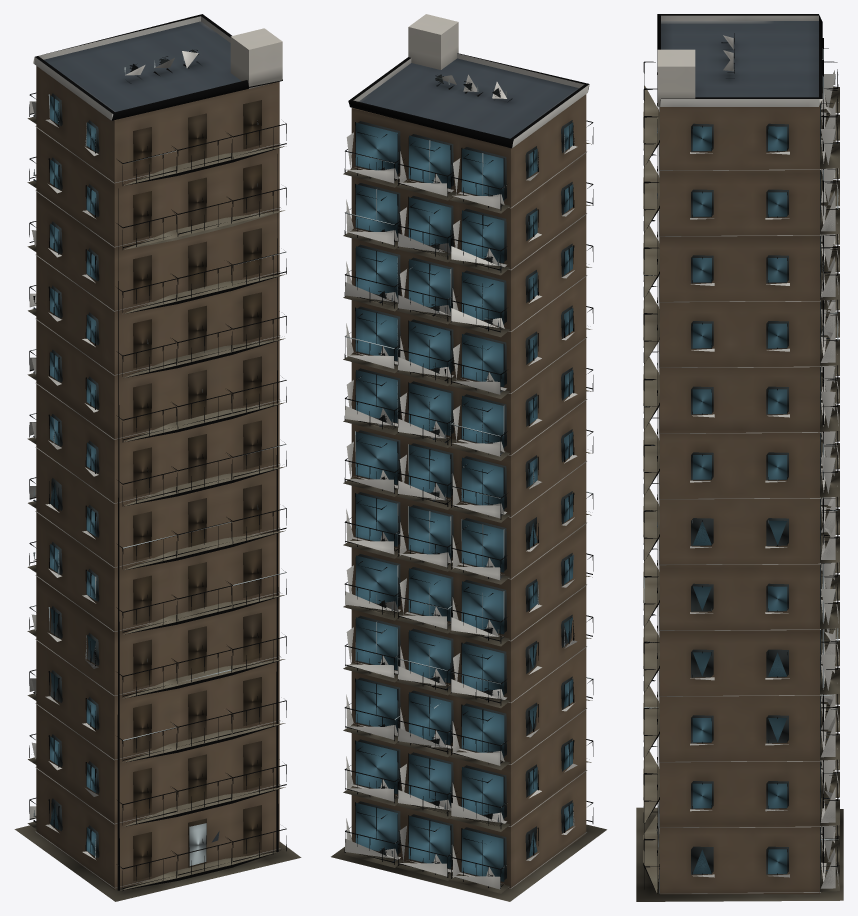
The model's file is residential_010.obj.
3 views of the same model, side by side, from view 1: azimuth 30°, elevation 25°; view 2: azimuth 150°, elevation 25°; view 3: azimuth 270°, elevation 25° (orthographic). The views are drawn at different scales.
Parts seen in each view (by area): view 1: residential_010; view 2: residential_010; view 3: residential_010.
Part boxes in pixels (x1,y1,x2,y2): residential_010: (14, 14, 301, 901); residential_010: (331, 14, 606, 901); residential_010: (636, 14, 843, 901).
Bounding box in the file's own units: 8.8 × 36.61 × 8.27.
1 material, 1 textured.
